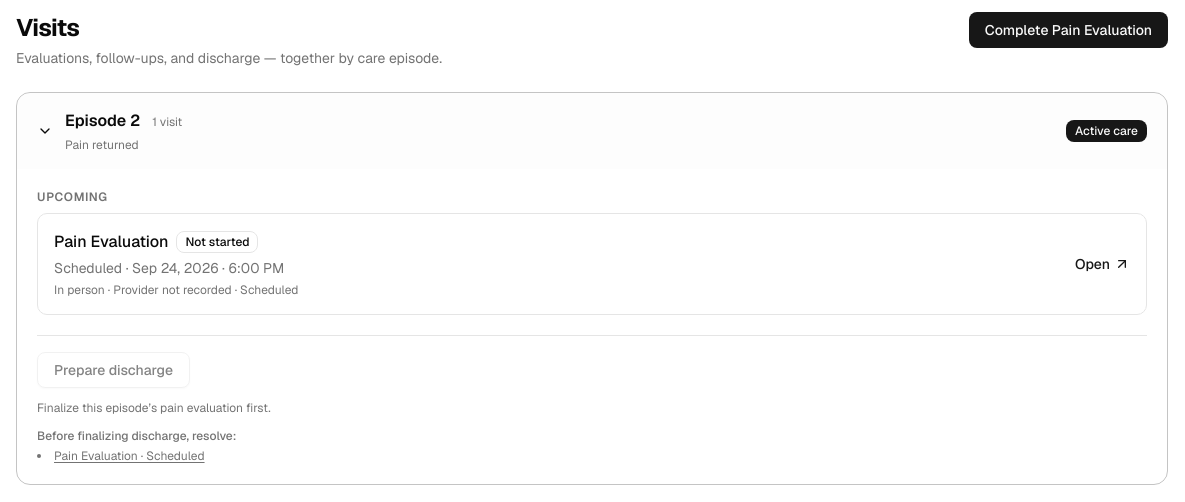
Test: links evaluation to its owning episode and type and allows keyboard disclosure
The width and height of the screenshot is (1185, 502).
Click the button "Episode 21 visit Pain returned Active care" at (97, 120), box top-left (17, 93), bottom-right (1167, 169)
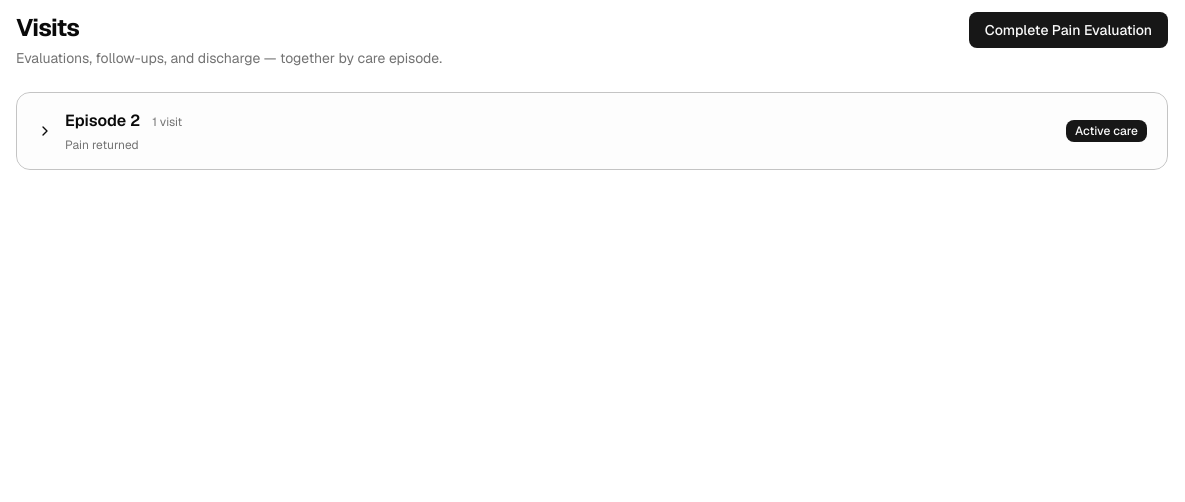
Expected: the button "Episode 21 visit Pain returned Active care" is collapsed, top-left (17, 93), bottom-right (1167, 169)
Expected: the link "Pain Evaluation Not started" is gone
